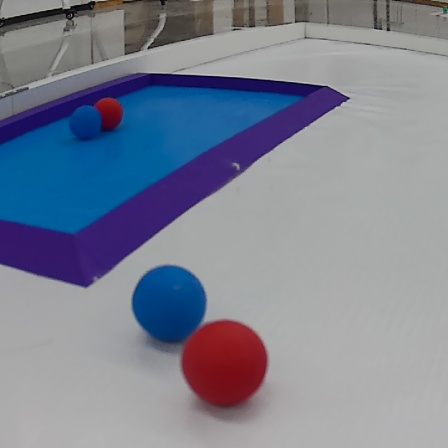blue: (126, 265, 211, 343), (66, 105, 102, 142)
blue_aim: (3, 68, 352, 287)
red: (180, 316, 270, 407), (92, 95, 124, 129)
